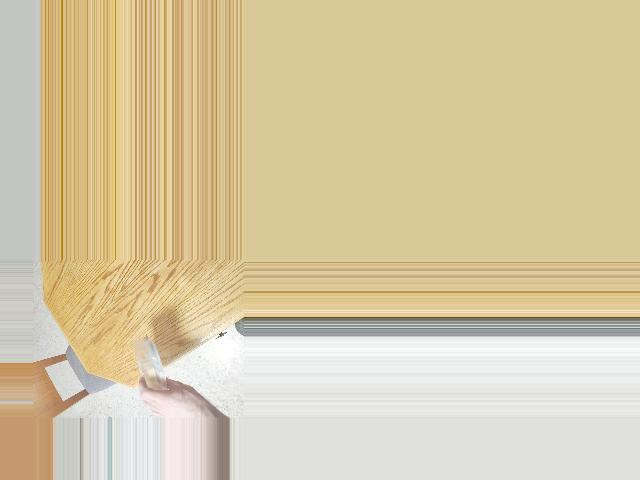cheese: (129, 345, 169, 390)
